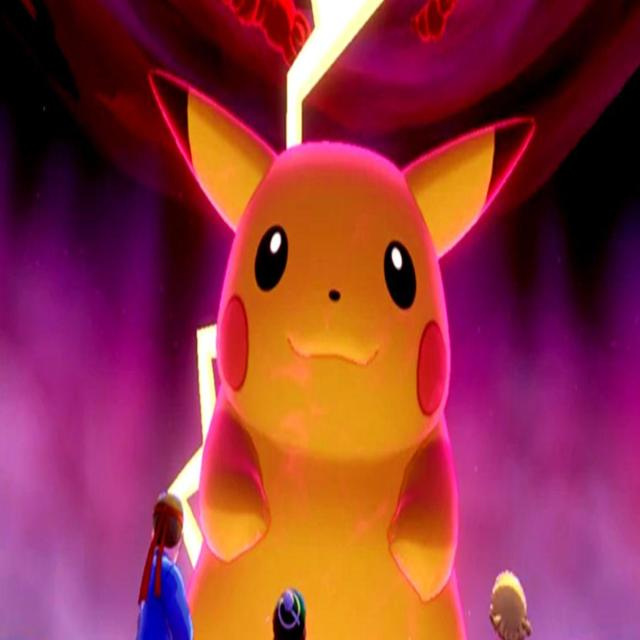pikachu: (148, 62, 535, 640)
